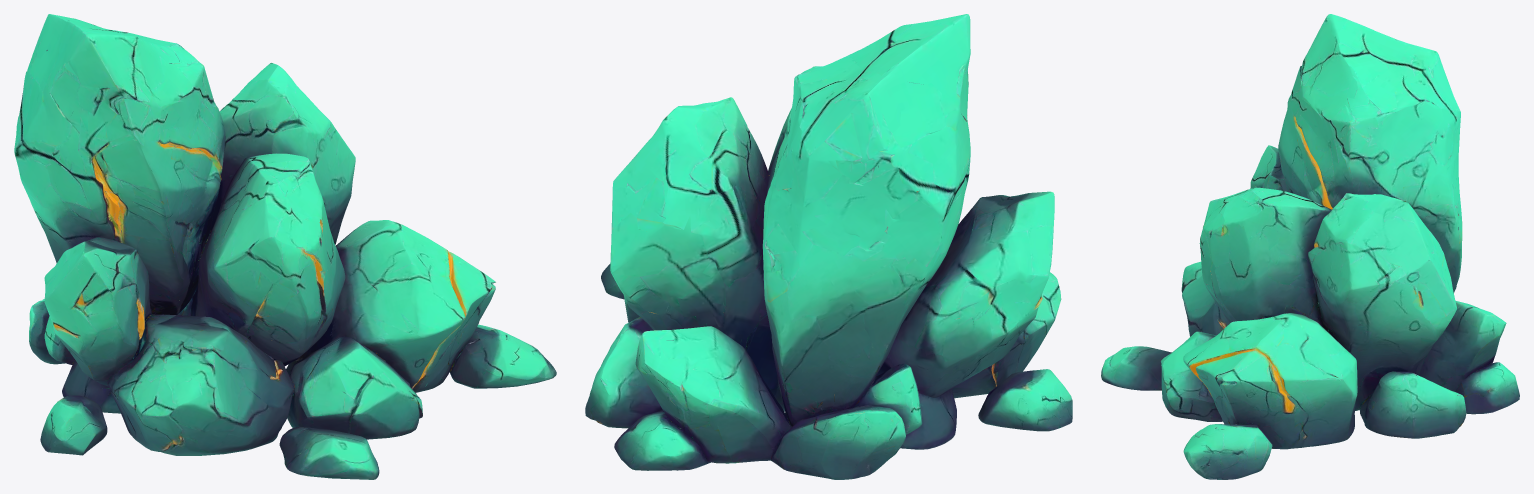
File: prop-obsidian-rocks.glb
The picture shows the model from 3 angles, left to right: view 1: azimuth 30°, elevation 25°; view 2: azimuth 150°, elevation 25°; view 3: azimuth 270°, elevation 25°; orthographic projection. The views are drawn at different scales.
Visible parts, largest first — view 1: Mesh_0; view 2: Mesh_0; view 3: Mesh_0.
Part boxes in pixels (<box>): Mesh_0: <box>14,14,556,479</box>; Mesh_0: <box>585,14,1072,479</box>; Mesh_0: <box>1101,14,1519,479</box>.
Bounding box in the file's own units: 1.9 × 1.49 × 1.82.
1 material, 1 textured.
